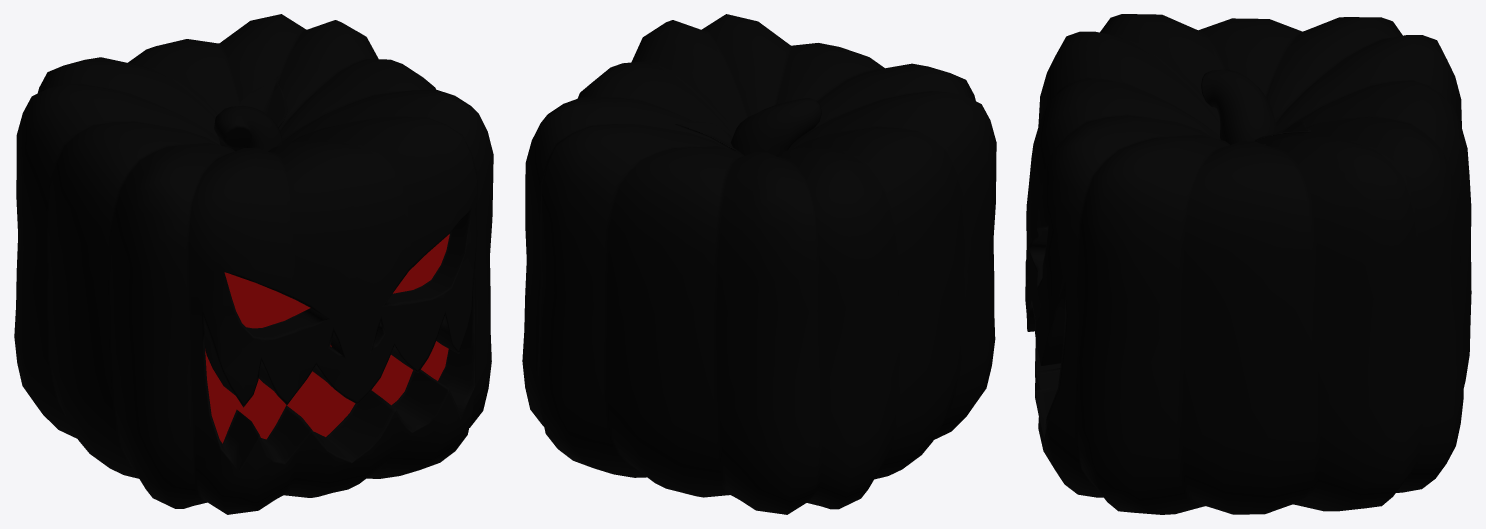
File: PumpkinCube2_SM.gltf
3 views of the same model, side by side, from view 1: azimuth 30°, elevation 25°; view 2: azimuth 150°, elevation 25°; view 3: azimuth 270°, elevation 25° (orthographic). The views are drawn at different scales.
Visible parts, largest first — view 1: PumpkinCube2_SM; view 2: PumpkinCube2_SM; view 3: PumpkinCube2_SM.
Part boxes in pixels (x1,y1,x2,y2): PumpkinCube2_SM: [14, 14, 493, 514]; PumpkinCube2_SM: [522, 14, 996, 514]; PumpkinCube2_SM: [1025, 14, 1471, 514].
Bounding box in the file's own units: 1.82 × 1.71 × 1.8.
